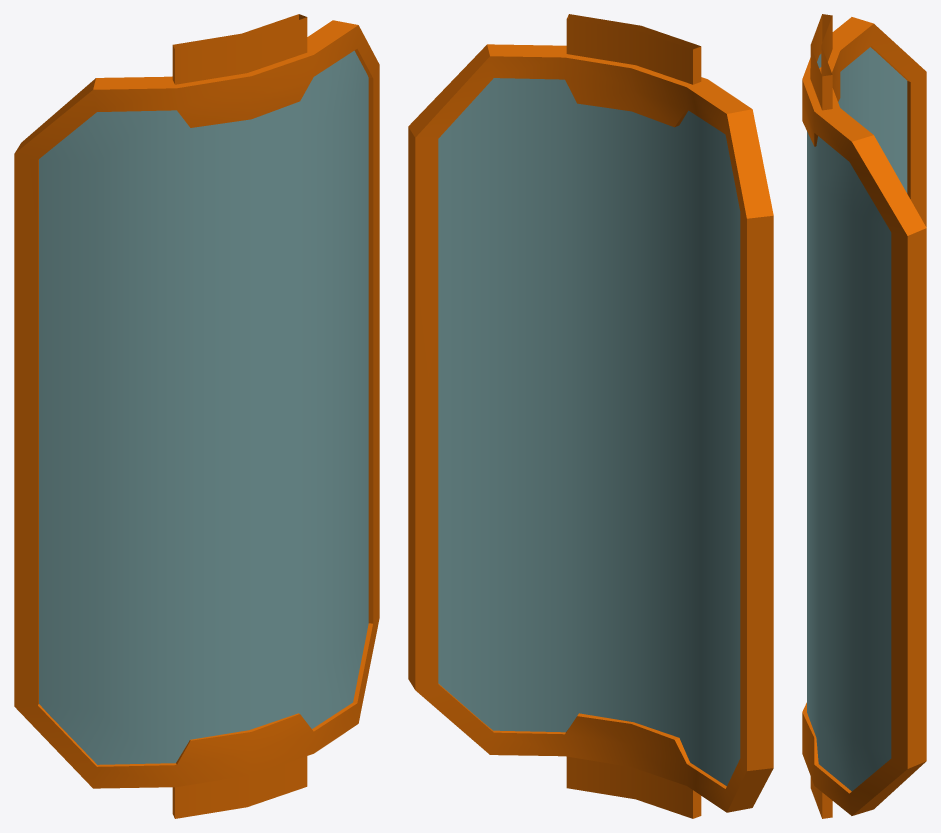
Rendered from Reservoir_Door.fbx.
3 renders of one model, left to right at view 1: azimuth 30°, elevation 25°; view 2: azimuth 150°, elevation 25°; view 3: azimuth 270°, elevation 25°, orthographic. The views are drawn at different scales.
Visible parts, largest first — view 1: pCylinder51; view 2: pCylinder51; view 3: pCylinder51.
Boxes of the visible parts, x1=… form: pCylinder51: x1=14, y1=14, x2=379, y2=818; pCylinder51: x1=408, y1=14, x2=773, y2=818; pCylinder51: x1=802, y1=14, x2=926, y2=818.
Bounding box in the file's own units: 90.88 × 27.76 × 183.
